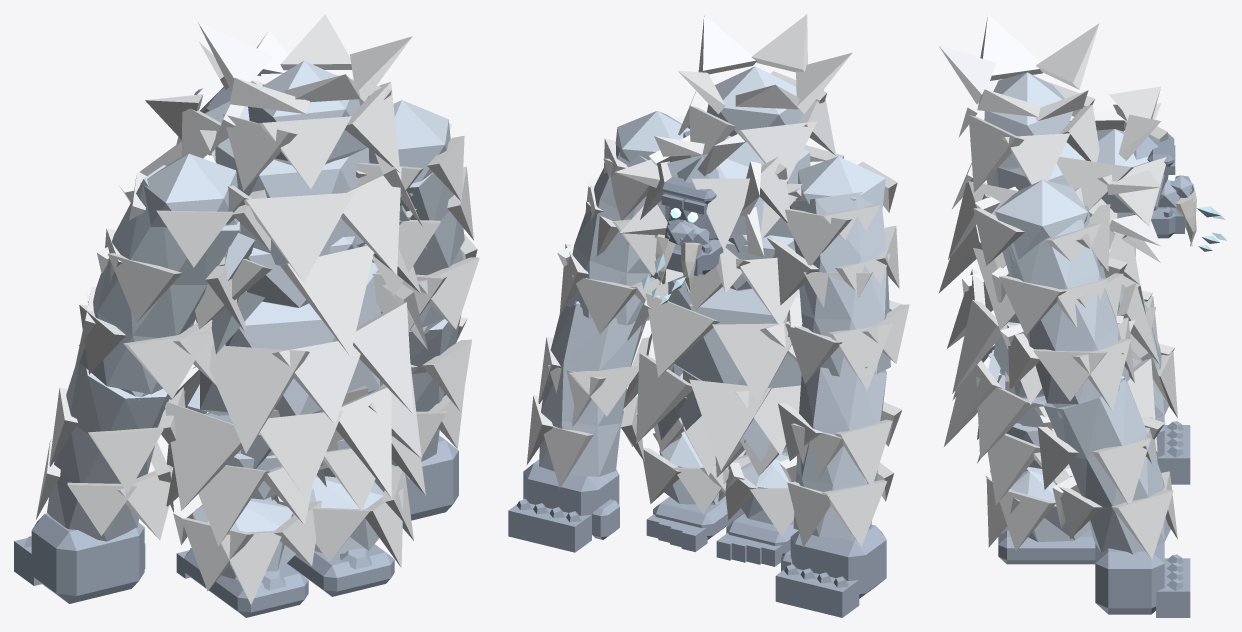
The model's file is Frostbite.fbx.
3 views of the same model, side by side, from view 1: azimuth 30°, elevation 25°; view 2: azimuth 150°, elevation 25°; view 3: azimuth 270°, elevation 25° (orthographic). The views are drawn at different scales.
Parts seen in each view (by area): view 1: Frostbite_FurBody_FurWhite, Frostbite_Body_FurShadow, Frostbite_ArmUpper_L_FurShadow, Frostbite_FurLeg_L_FurWhite, Frostbite_FurArm_L_FurWhite, Frostbite_ArmLower_L_FurShadow, Frostbite_FurFore_L_FurWhite, Frostbite_Hand_L_Face, Frostbite_FurLeg_R_FurWhite, Frostbite_ArmUpper_R_FurShadow, Frostbite_FurArm_R_FurWhite, Frostbite_FurHead_FurWhite (+9 smaller); view 2: Frostbite_FurBody_FurWhite, Frostbite_Body_FurShadow, Frostbite_ArmUpper_L_FurShadow, Frostbite_FurHead_FurWhite, Frostbite_FurArm_L_FurWhite, Frostbite_ArmLower_R_FurShadow, Frostbite_FurFore_L_FurWhite, Frostbite_ArmLower_L_FurShadow, Frostbite_Hand_R_Face, Frostbite_Hand_L_Face, Frostbite_ArmUpper_R_FurShadow, Frostbite_FurFore_R_FurWhite (+14 smaller); view 3: Frostbite_FurBody_FurWhite, Frostbite_ArmUpper_R_FurShadow, Frostbite_FurArm_R_FurWhite, Frostbite_ArmLower_R_FurShadow, Frostbite_FurHead_FurWhite, Frostbite_FurFore_R_FurWhite, Frostbite_Hand_R_Face, Frostbite_Body_FurShadow, Frostbite_FurLeg_R_FurWhite, Frostbite_FurShoulder_R_FurWhite, Frostbite_Foot_R_Face, Frostbite_Leg_R_FurShadow (+9 smaller).
Boxes of the visible parts, box(x1,y1,x2,y2) form: Frostbite_FurBody_FurWhite: box(165, 14, 427, 510); Frostbite_Body_FurShadow: box(187, 60, 427, 468); Frostbite_ArmUpper_L_FurShadow: box(79, 153, 240, 394); Frostbite_FurLeg_L_FurWhite: box(166, 445, 326, 604); Frostbite_FurArm_L_FurWhite: box(74, 228, 246, 398); Frostbite_ArmLower_L_FurShadow: box(47, 344, 170, 541); Frostbite_FurFore_L_FurWhite: box(36, 387, 185, 540); Frostbite_Hand_L_Face: box(14, 513, 145, 603); Frostbite_FurLeg_R_FurWhite: box(271, 435, 425, 567); Frostbite_ArmUpper_R_FurShadow: box(369, 100, 464, 327); Frostbite_FurArm_R_FurWhite: box(364, 166, 479, 331); Frostbite_FurHead_FurWhite: box(139, 30, 288, 175); Frostbite_FurBody_FurWhite: box(623, 14, 852, 470); Frostbite_Body_FurShadow: box(626, 66, 810, 461); Frostbite_ArmUpper_L_FurShadow: box(789, 156, 890, 376); Frostbite_FurHead_FurWhite: box(615, 134, 789, 292); Frostbite_FurArm_L_FurWhite: box(767, 225, 909, 390); Frostbite_ArmLower_R_FurShadow: box(539, 301, 646, 476); Frostbite_FurFore_L_FurWhite: box(778, 402, 901, 547); Frostbite_ArmLower_L_FurShadow: box(793, 366, 886, 538); Frostbite_Hand_R_Face: box(508, 459, 619, 552); Frostbite_Hand_L_Face: box(775, 524, 886, 617); Frostbite_ArmUpper_R_FurShadow: box(566, 111, 689, 325); Frostbite_FurFore_R_FurWhite: box(526, 336, 649, 488); Frostbite_FurBody_FurWhite: box(938, 14, 1169, 458); Frostbite_ArmUpper_R_FurShadow: box(995, 180, 1129, 404); Frostbite_FurArm_R_FurWhite: box(991, 257, 1134, 410); Frostbite_ArmLower_R_FurShadow: box(1044, 375, 1170, 554); Frostbite_FurHead_FurWhite: box(1056, 86, 1168, 262); Frostbite_FurFore_R_FurWhite: box(1037, 415, 1177, 559); Frostbite_Hand_R_Face: box(1095, 542, 1190, 617); Frostbite_Body_FurShadow: box(984, 72, 1140, 427); Frostbite_FurLeg_R_FurWhite: box(977, 433, 1089, 551); Frostbite_FurShoulder_R_FurWhite: box(973, 186, 1110, 271); Frostbite_Foot_R_Face: box(998, 526, 1095, 564); Frostbite_Leg_R_FurShadow: box(1006, 396, 1090, 541).
Size of what is drawn, in the model's own units: 7.71 by 9.91 by 5.36.
